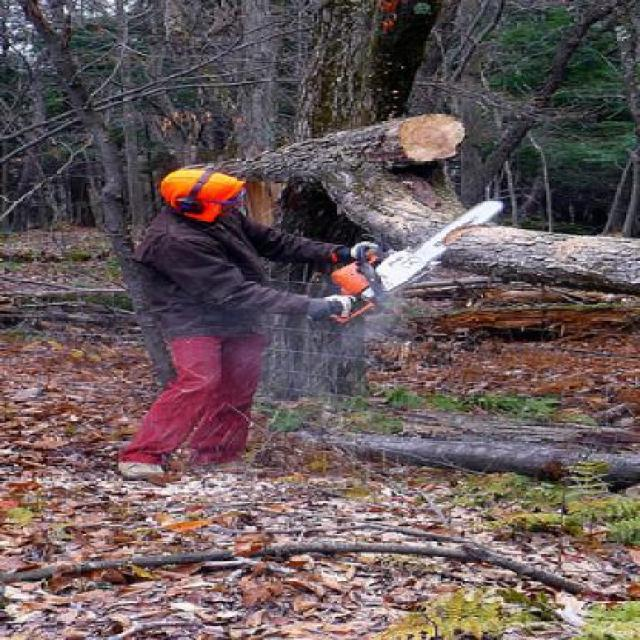Chainsaw: (318, 194, 510, 329)
